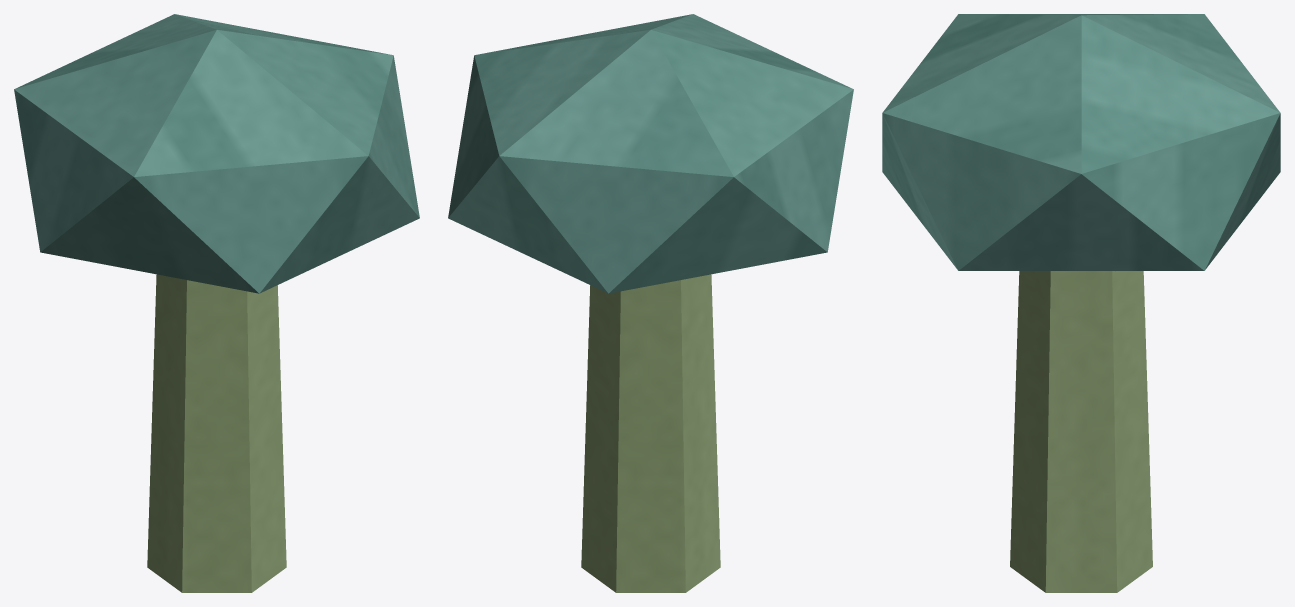
The model's file is sm_flora_capshroom.glb.
The picture shows the model from 3 angles, left to right: view 1: azimuth 30°, elevation 25°; view 2: azimuth 150°, elevation 25°; view 3: azimuth 270°, elevation 25°; orthographic projection. The views are drawn at different scales.
Parts seen in each view (by area): view 1: sm_flora_capshroom; view 2: sm_flora_capshroom; view 3: sm_flora_capshroom.
Boxes of the visible parts, x1,y1,x2,y2 form: sm_flora_capshroom: (14,14,419,592); sm_flora_capshroom: (448,14,853,592); sm_flora_capshroom: (882,14,1280,592).
Bounding box in the file's own units: 0.322 × 0.468 × 0.3062.
Materials: 1 (1 with a texture image).
